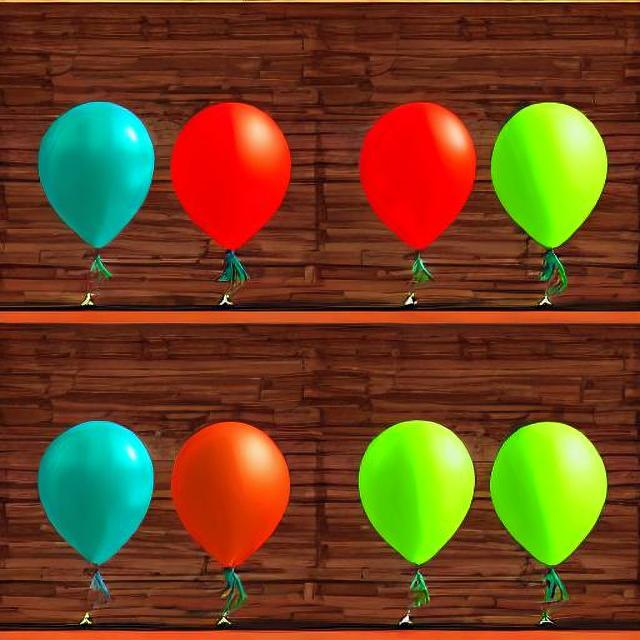balloon: (163, 99, 293, 270), (165, 418, 290, 578), (486, 100, 608, 256), (31, 416, 157, 567), (351, 98, 476, 250), (352, 418, 473, 573), (486, 415, 606, 571), (34, 99, 156, 252)
